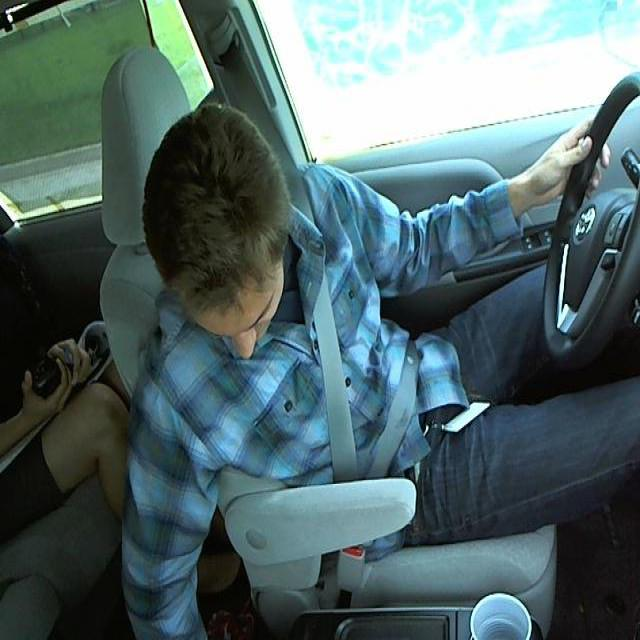seatbelt: (307, 296, 407, 477)
